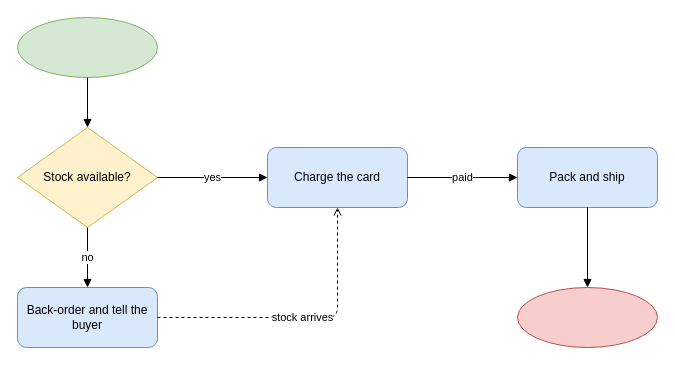
Image size: 675x365. Some labels were removed from this diagram. Here are the shapes that lost their labels. From the top down, the centre of each, then its label:
(87,47): Cart checked out
(587,317): Done
